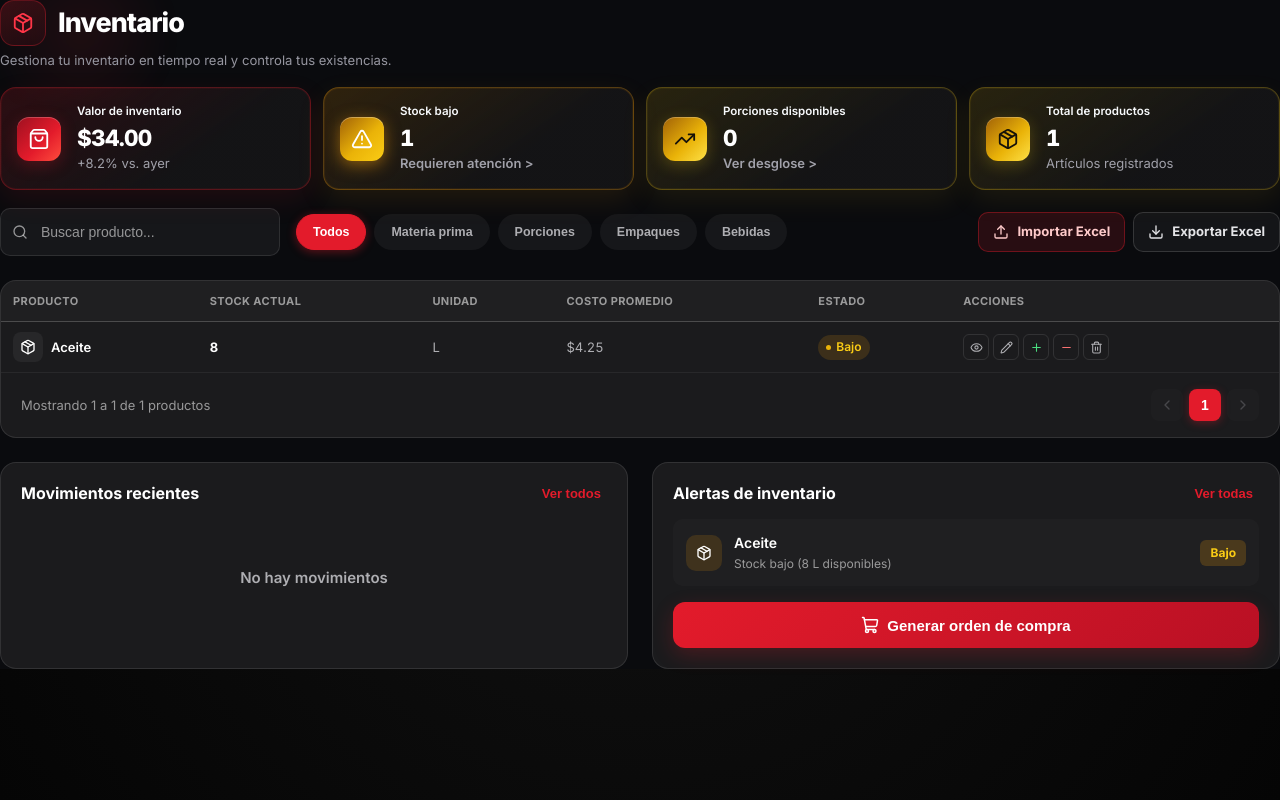
Scenario: Acciones de Inventario › muestra únicamente los movimientos del artículo seleccionado
The image size is (1280, 800).
Click the button named "Ver movimientos de Aceite": (976, 347) top-left (963, 334), bottom-right (989, 360)
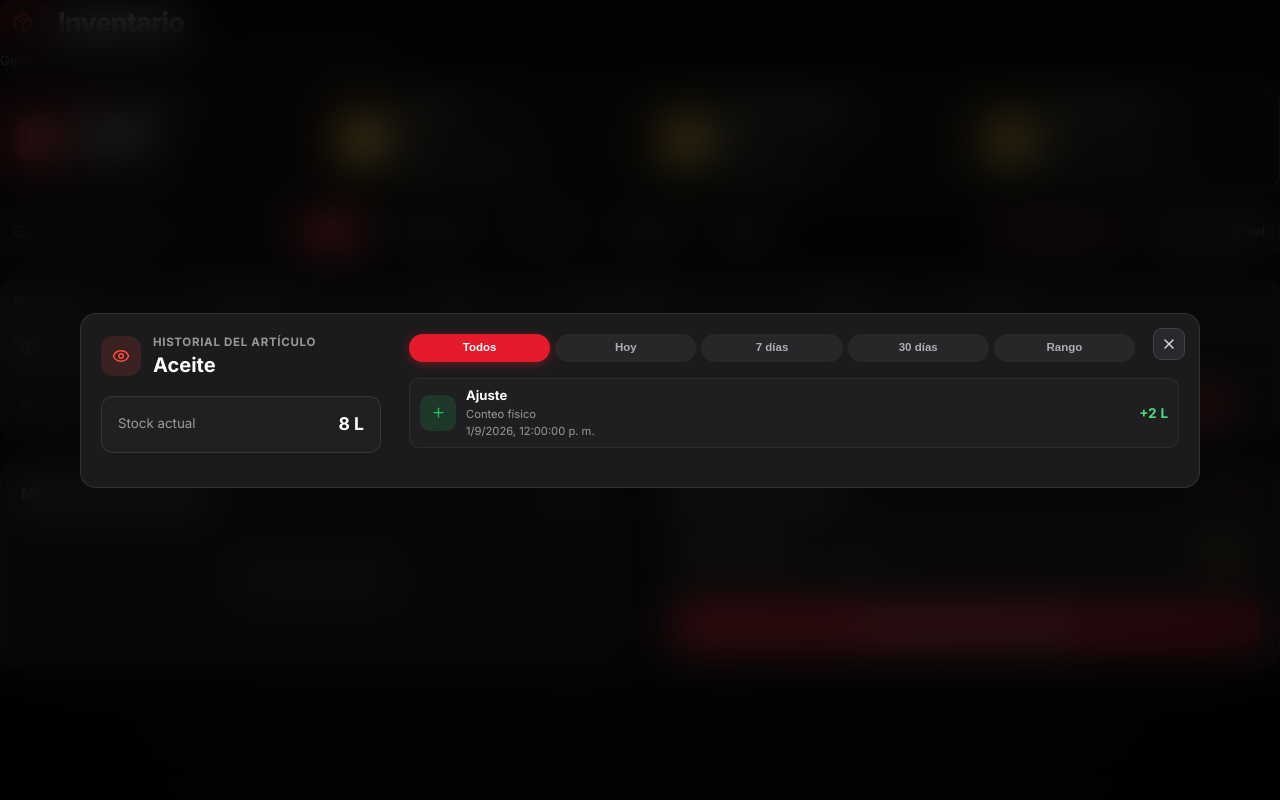
Check: the text "Conteo físico" is shown, box top-left (466, 406), bottom-right (536, 420)
